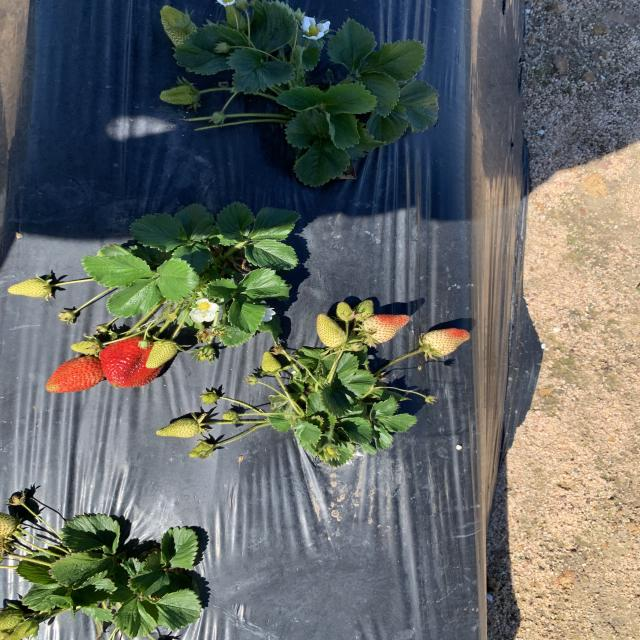unripe: (98, 333, 167, 388), (45, 345, 111, 392)
